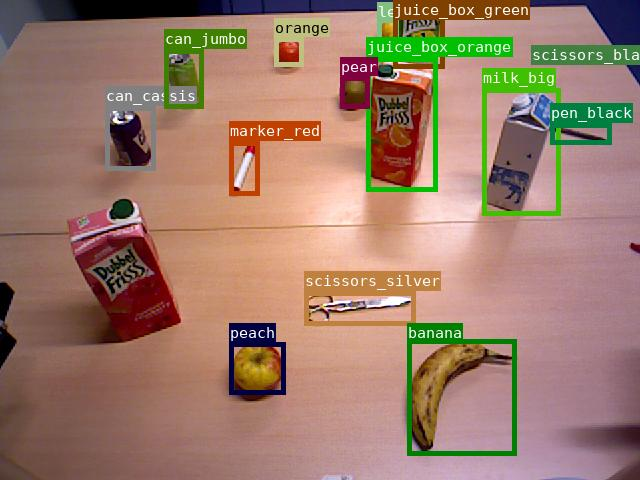banana: (407, 339, 516, 455)
can_cassis: (105, 106, 155, 170)
can_jumbo: (164, 49, 203, 108)
juice_box_green: (393, 0, 444, 68)
juice_box_orange: (366, 57, 437, 191)
lemon: (377, 18, 398, 45)
marker_red: (229, 141, 259, 195)
milk_big: (482, 88, 560, 215)
orange: (274, 37, 303, 66)
peach: (229, 342, 285, 394)
pear: (340, 76, 369, 108)
pen_black: (550, 123, 611, 144)
scissors_black: (531, 45, 600, 63)
scissors_silver: (304, 291, 415, 325)
